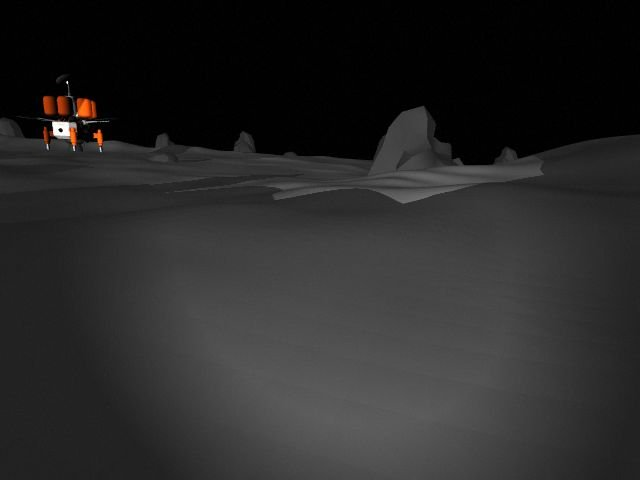homebase: (11, 68, 129, 158)
